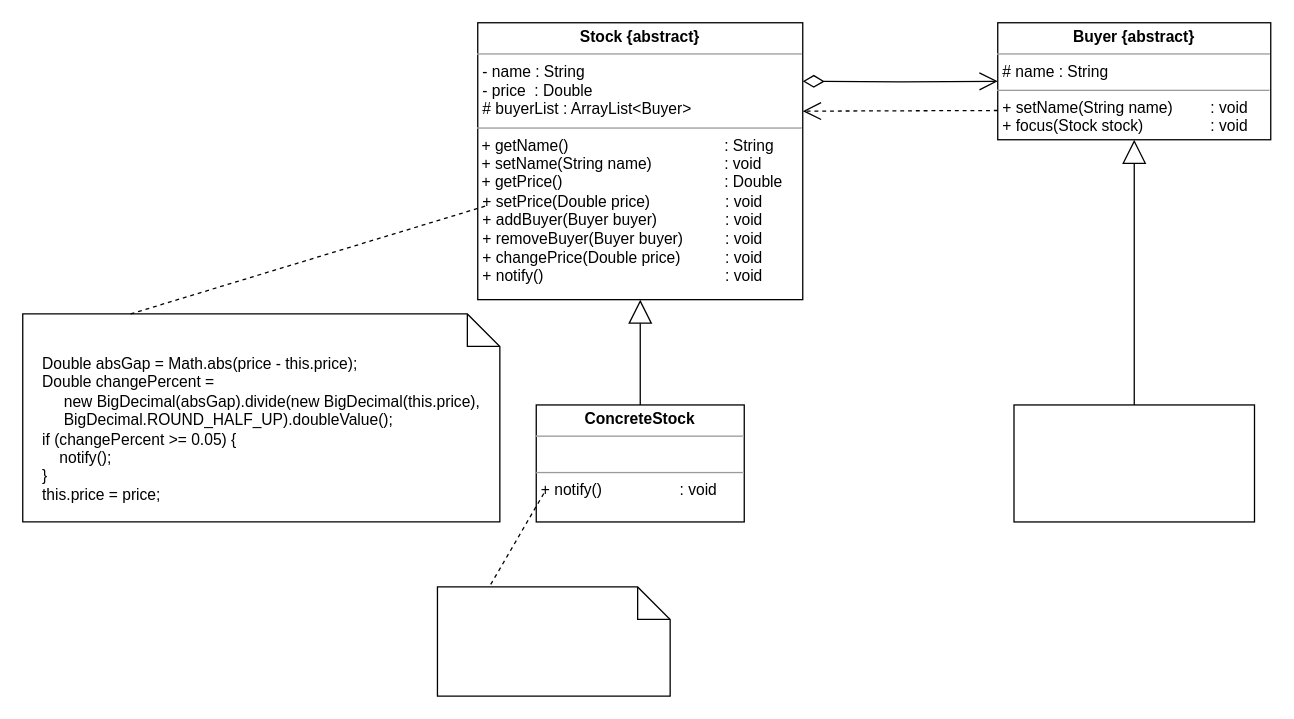
Image size: 1294x719. Some labels were removed from this diagram. Here are the shapes that lost their labels. From the top down, the centre of each, then its label:
At (1133,463): "ConcreteBuyer + focus(Stock stock) : void".
At (553,641): "for (Buyer buyer : buyerList) { buyer.focus(this); }".
